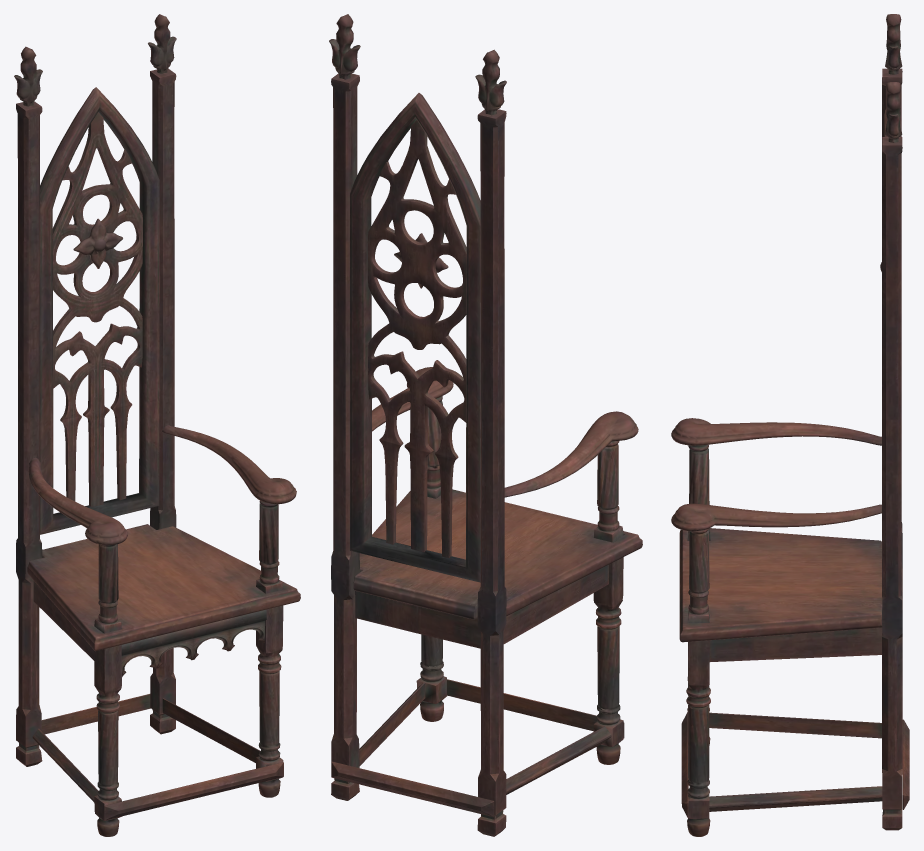
Rendered from WoodenChair_01.glb.
The picture shows the model from 3 angles, left to right: view 1: azimuth 30°, elevation 25°; view 2: azimuth 150°, elevation 25°; view 3: azimuth 270°, elevation 25°; orthographic projection. The views are drawn at different scales.
Visible parts, largest first — view 1: WoodenChair_01; view 2: WoodenChair_01; view 3: WoodenChair_01.
Part boxes in pixels (x1,y1,x2,y2): WoodenChair_01: [14, 14, 300, 836]; WoodenChair_01: [329, 14, 642, 836]; WoodenChair_01: [671, 14, 909, 836].
Bounding box in the file's own units: 0.6882 × 2.27 × 0.6585.
Materials: 1 (1 with a texture image).
